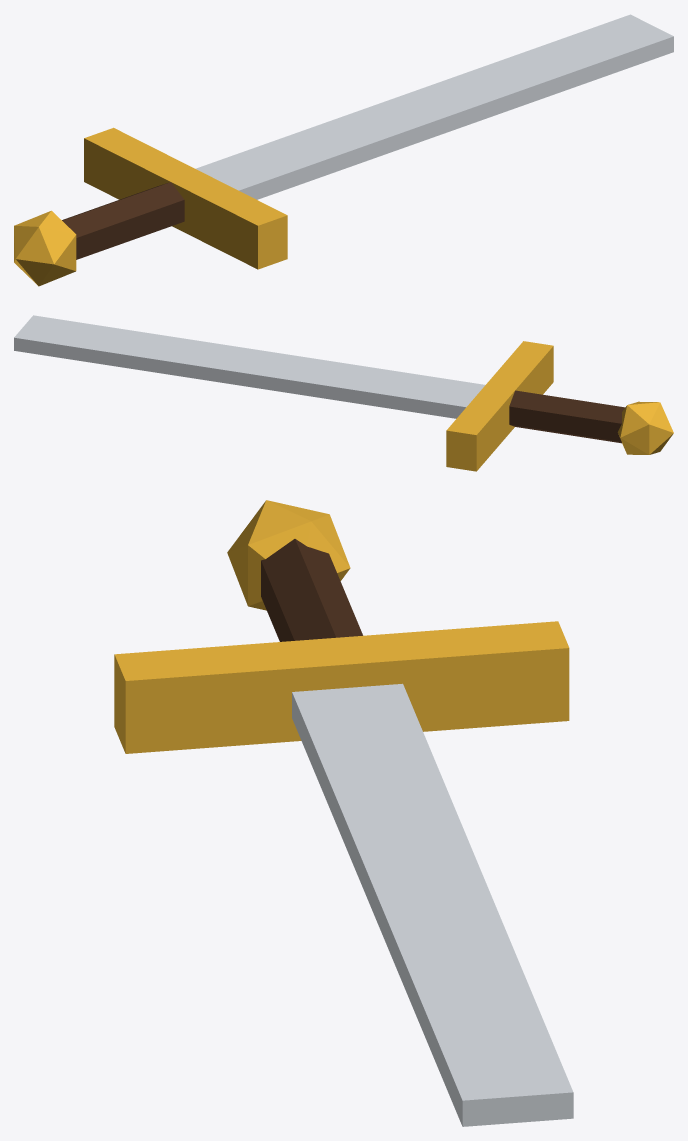
The model's file is sword.glb.
3 views of the same model, one above another, from view 1: azimuth 30°, elevation 25°; view 2: azimuth 150°, elevation 25°; view 3: azimuth 270°, elevation 25° (orthographic). The views are drawn at different scales.
Visible parts, largest first — view 1: Sword; view 2: Sword; view 3: Sword.
Boxes of the visible parts, x1,y1,x2,y2 form: Sword: [14, 14, 673, 286]; Sword: [14, 315, 673, 471]; Sword: [114, 500, 573, 1126].
Bounding box in the file's own units: 0.853 × 0.0681 × 0.2852.
